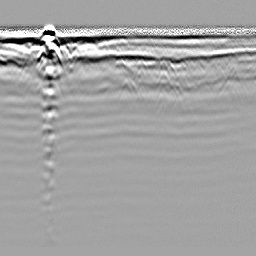cavity: (121, 76, 138, 94)
